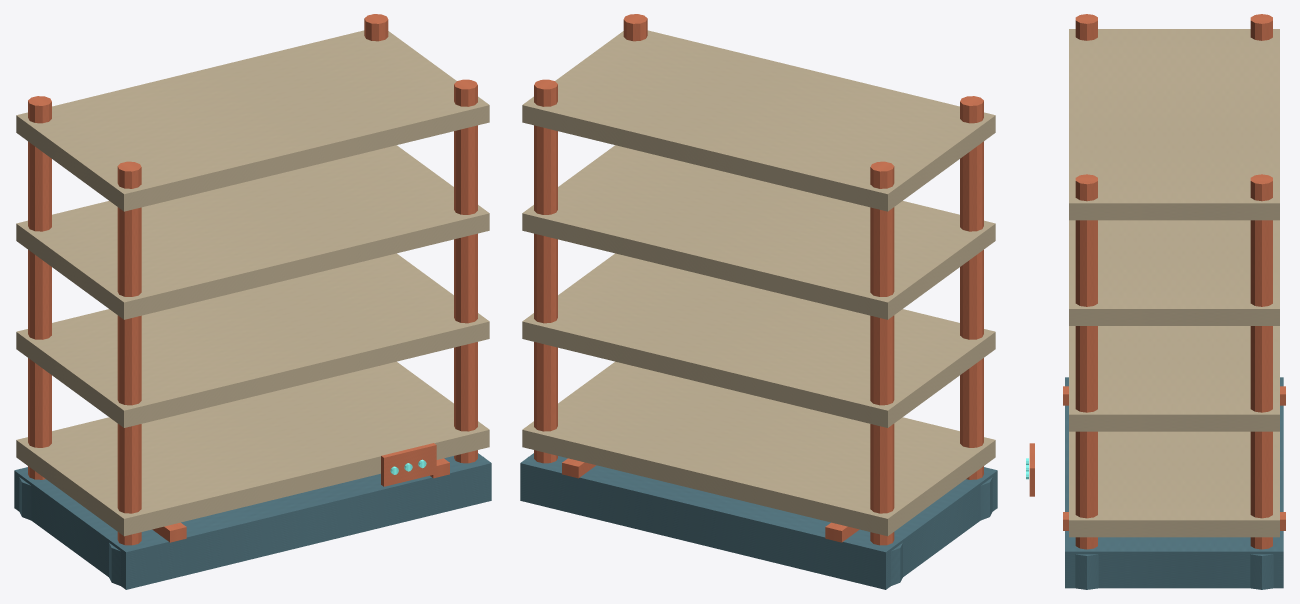
Rendered from atlas100-s050-a06.glb.
3 renders of one model, left to right at view 1: azimuth 30°, elevation 25°; view 2: azimuth 150°, elevation 25°; view 3: azimuth 270°, elevation 25°, orthographic. The views are drawn at different scales.
Parts seen in each view (by area): view 1: atlas100-s050-a06:part-014, atlas100-s050-a06:part-012, atlas100-s050-a06:part-013, atlas100-s050-a06:part-011, atlas100-s050-a06:part-000, atlas100-s050-a06:part-005, atlas100-s050-a06:part-009, atlas100-s050-a06:part-003, atlas100-s050-a06:part-015, atlas100-s050-a06:part-007; view 2: atlas100-s050-a06:part-014, atlas100-s050-a06:part-012, atlas100-s050-a06:part-011, atlas100-s050-a06:part-013, atlas100-s050-a06:part-000, atlas100-s050-a06:part-003, atlas100-s050-a06:part-007, atlas100-s050-a06:part-005, atlas100-s050-a06:part-009; view 3: atlas100-s050-a06:part-014, atlas100-s050-a06:part-011, atlas100-s050-a06:part-012, atlas100-s050-a06:part-013, atlas100-s050-a06:part-000, atlas100-s050-a06:part-009, atlas100-s050-a06:part-007, atlas100-s050-a06:part-008, atlas100-s050-a06:part-010, atlas100-s050-a06:part-003, atlas100-s050-a06:part-005.
Boxes of the visible parts, x1=… form: atlas100-s050-a06:part-014: x1=16, y1=30, x2=489, y2=211; atlas100-s050-a06:part-012: x1=16, y1=253, x2=489, y2=427; atlas100-s050-a06:part-013: x1=16, y1=145, x2=489, y2=319; atlas100-s050-a06:part-011: x1=16, y1=361, x2=489, y2=536; atlas100-s050-a06:part-000: x1=14, y1=453, x2=491, y2=589; atlas100-s050-a06:part-005: x1=117, y1=161, x2=141, y2=545; atlas100-s050-a06:part-009: x1=454, y1=79, x2=477, y2=463; atlas100-s050-a06:part-003: x1=28, y1=96, x2=51, y2=479; atlas100-s050-a06:part-015: x1=381, y1=443, x2=436, y2=486; atlas100-s050-a06:part-007: x1=364, y1=14, x2=388, y2=41; atlas100-s050-a06:part-014: x1=522, y1=30, x2=995, y2=211; atlas100-s050-a06:part-012: x1=522, y1=253, x2=995, y2=427; atlas100-s050-a06:part-011: x1=522, y1=361, x2=995, y2=536; atlas100-s050-a06:part-013: x1=522, y1=145, x2=995, y2=319; atlas100-s050-a06:part-000: x1=520, y1=453, x2=997, y2=589; atlas100-s050-a06:part-003: x1=870, y1=161, x2=894, y2=545; atlas100-s050-a06:part-007: x1=534, y1=79, x2=557, y2=463; atlas100-s050-a06:part-005: x1=960, y1=96, x2=983, y2=479; atlas100-s050-a06:part-009: x1=623, y1=14, x2=647, y2=41; atlas100-s050-a06:part-014: x1=1069, y1=29, x2=1279, y2=220; atlas100-s050-a06:part-011: x1=1069, y1=431, x2=1279, y2=537; atlas100-s050-a06:part-012: x1=1069, y1=326, x2=1279, y2=431; atlas100-s050-a06:part-013: x1=1069, y1=220, x2=1279, y2=325; atlas100-s050-a06:part-000: x1=1065, y1=377, x2=1283, y2=588; atlas100-s050-a06:part-009: x1=1075, y1=174, x2=1097, y2=549; atlas100-s050-a06:part-007: x1=1250, y1=174, x2=1272, y2=549; atlas100-s050-a06:part-008: x1=1250, y1=554, x2=1273, y2=589; atlas100-s050-a06:part-010: x1=1075, y1=554, x2=1098, y2=589; atlas100-s050-a06:part-003: x1=1250, y1=14, x2=1272, y2=40; atlas100-s050-a06:part-005: x1=1075, y1=14, x2=1097, y2=40.
Size of the model in its own units: 2.69 by 2.84 by 1.66.
4 materials, 4 textured.
